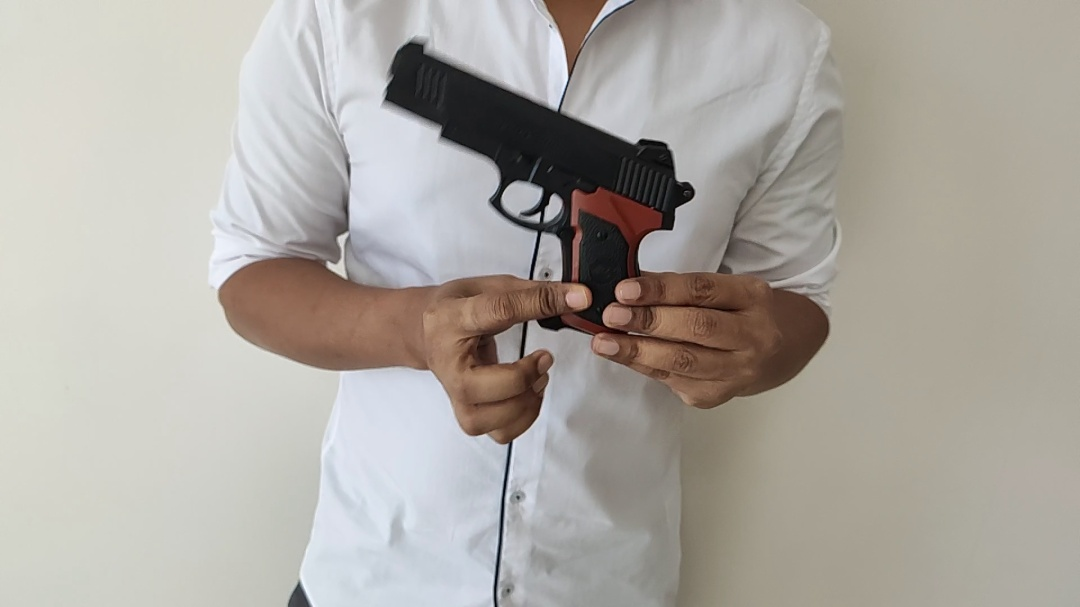gun: (380, 36, 696, 276)
